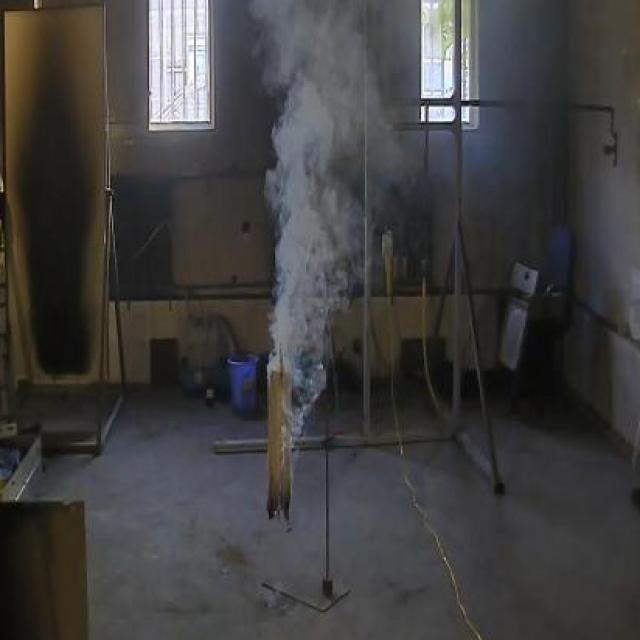fire: (247, 0, 390, 356)
